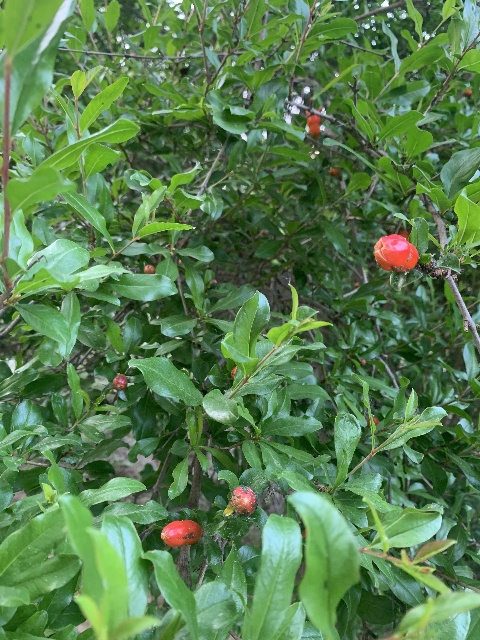bud: (374, 233, 418, 272), (160, 520, 202, 547), (232, 486, 255, 513), (112, 374, 126, 390), (143, 264, 155, 273), (230, 366, 236, 379)
flower: (305, 106, 322, 139)
